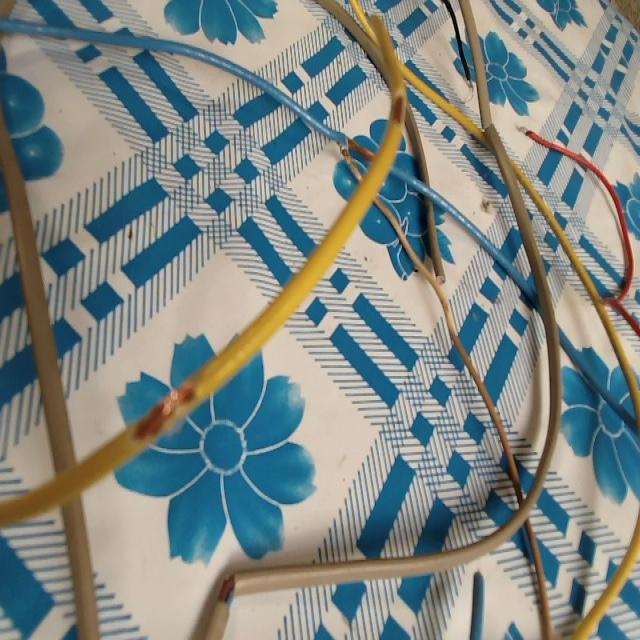-: (131, 373, 195, 447), (214, 570, 238, 614), (343, 132, 377, 160), (338, 148, 365, 181), (389, 85, 408, 131), (462, 72, 476, 95), (515, 121, 530, 136)
